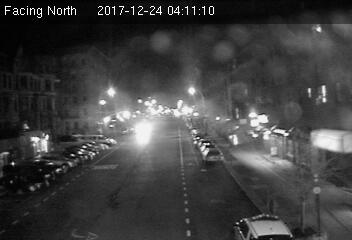car: (200, 147, 222, 162)
police: (228, 211, 299, 240)
